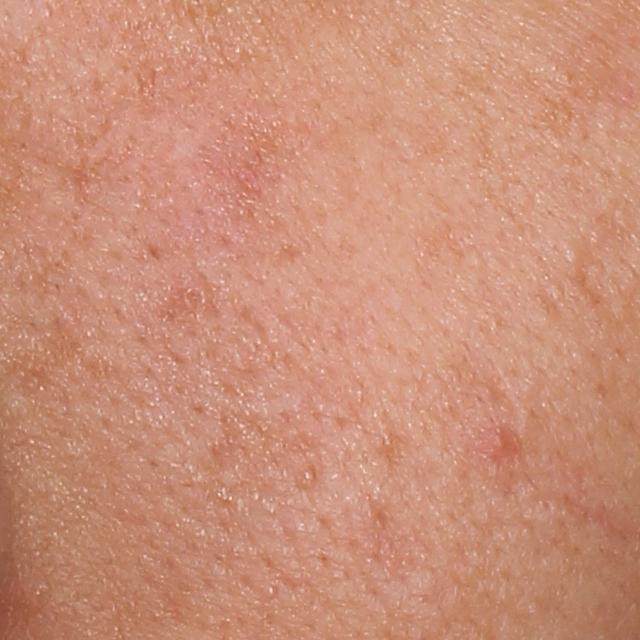comedo: (560, 243, 582, 263)
papule: (474, 421, 519, 465)
